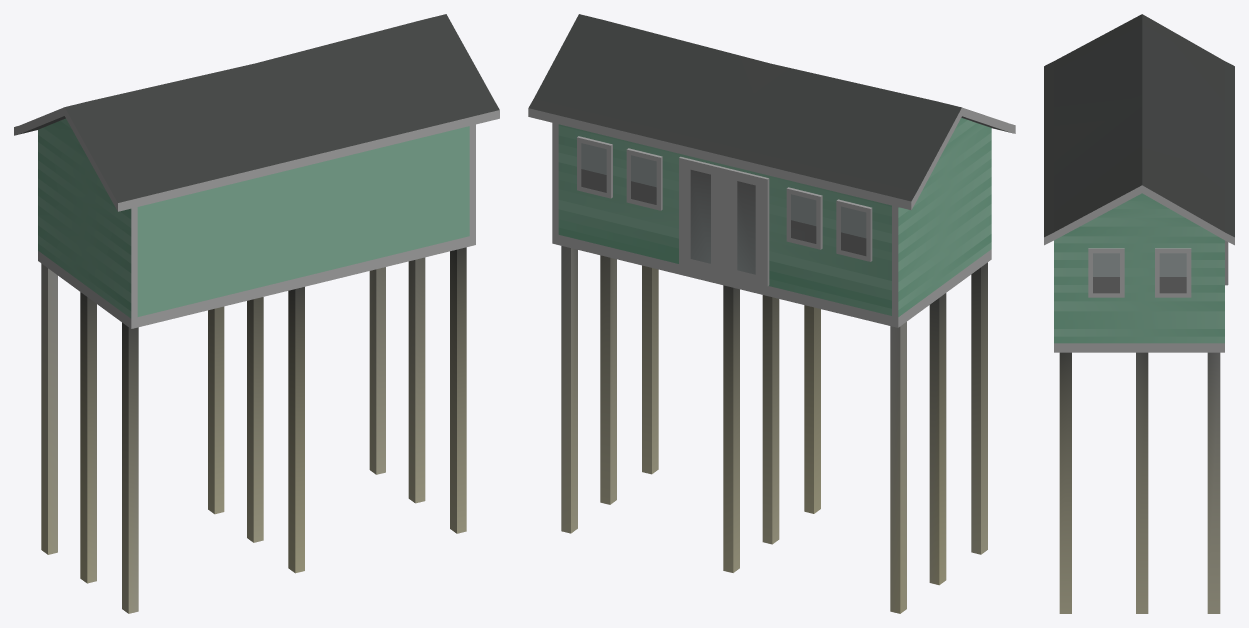
The model's file is GreenStiltHouse2.FBX.
3 views of the same model, side by side, from view 1: azimuth 30°, elevation 25°; view 2: azimuth 150°, elevation 25°; view 3: azimuth 270°, elevation 25° (orthographic). The views are drawn at different scales.
Parts seen in each view (by area): view 1: GreenStiltHouse; view 2: GreenStiltHouse; view 3: GreenStiltHouse.
Part boxes in pixels (x1,y1,x2,y2): GreenStiltHouse: (14, 14, 499, 613); GreenStiltHouse: (528, 14, 1015, 613); GreenStiltHouse: (1044, 14, 1234, 613).
Size of the model in its own units: 105 by 125 by 49.33.
